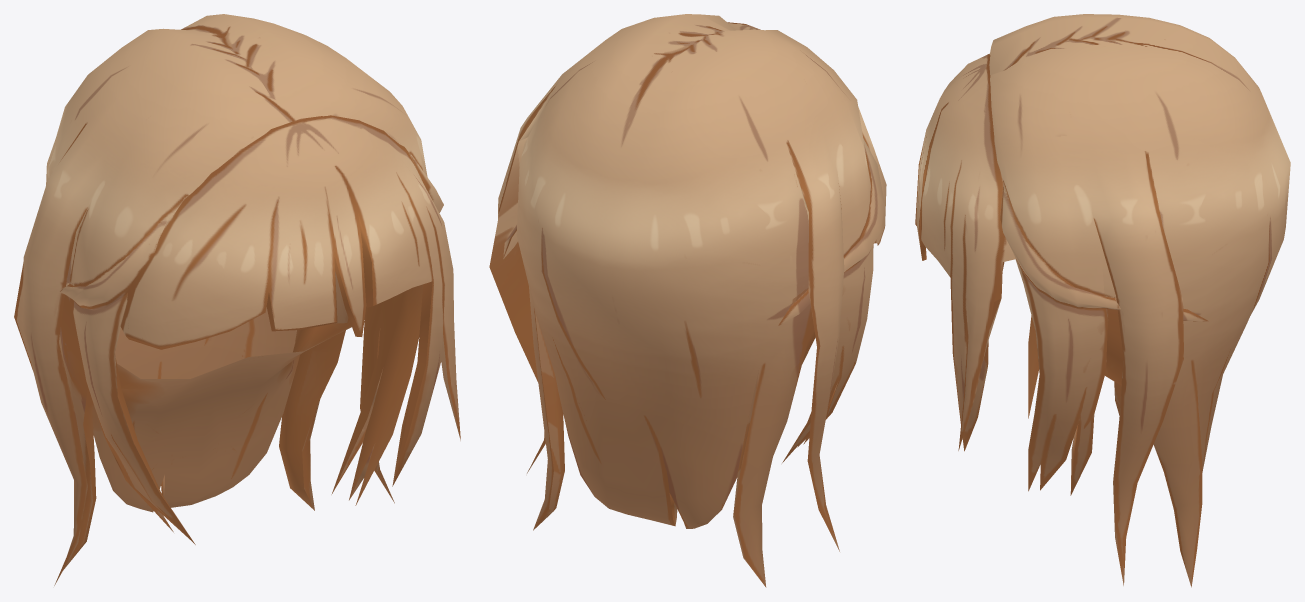
Rendered from hairT.glb.
3 views of the same model, side by side, from view 1: azimuth 30°, elevation 25°; view 2: azimuth 150°, elevation 25°; view 3: azimuth 270°, elevation 25° (orthographic). The views are drawn at different scales.
Visible parts, largest first — view 1: hairT; view 2: hairT; view 3: hairT.
Boxes of the visible parts, <box> form: hairT: <box>14,14,460,585</box>; hairT: <box>489,14,886,587</box>; hairT: <box>915,14,1290,587</box>.
Bounding box in the file's own units: 1.01 × 1.41 × 0.962.
Materials: 1 (1 with a texture image).
